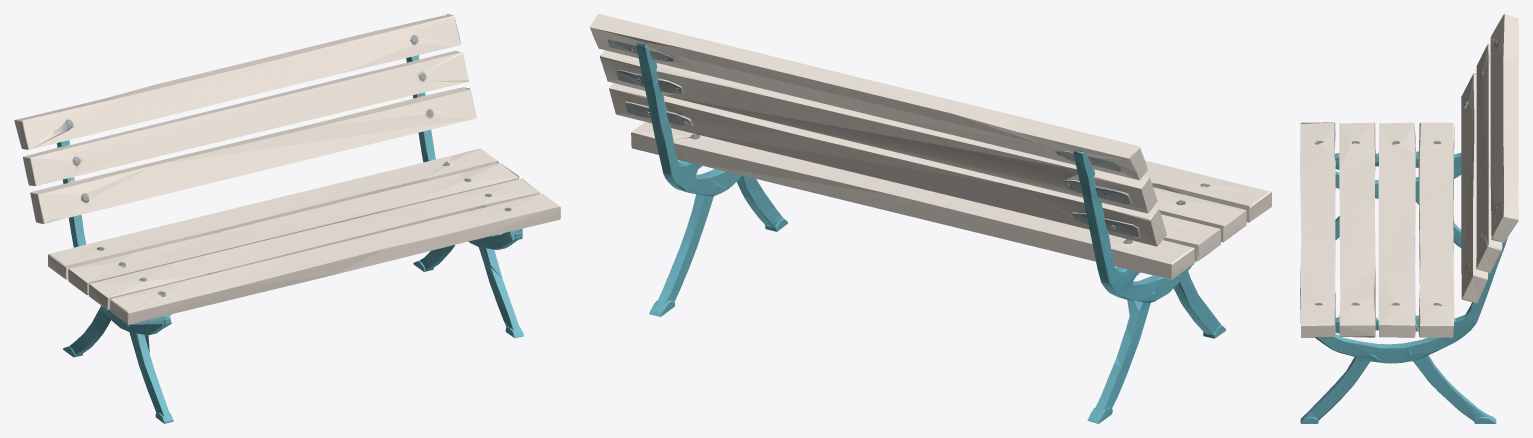
The model's file is park-bench.glb.
3 views of the same model, side by side, from view 1: azimuth 30°, elevation 25°; view 2: azimuth 150°, elevation 25°; view 3: azimuth 270°, elevation 25° (orthographic). The views are drawn at different scales.
Bounding box in the file's own units: 1.9 × 0.9831 × 0.867.
1 material, 1 textured.
